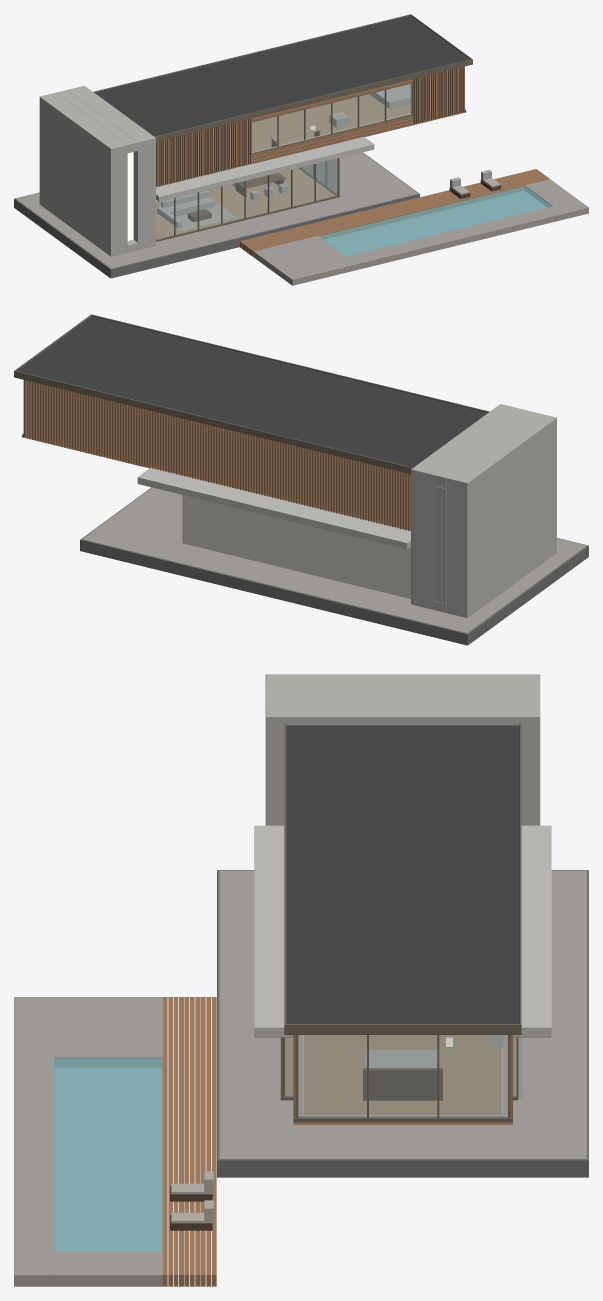
The model's file is house.glb.
3 renders of one model, top to bottom at view 1: azimuth 30°, elevation 25°; view 2: azimuth 150°, elevation 25°; view 3: azimuth 270°, elevation 25°, orthographic. The views are drawn at different scales.
Parts seen in each view (by area): view 1: roof, core, pool coping, plinth, cedar slats, ground glazing, ground interior, water, deck boards, upper shell, upper glazing, slab (+5 smaller); view 2: roof, core, cedar slats, plinth, ground back wall, slab; view 3: roof, plinth, pool coping, water, core, upper glazing, deck boards, slab, upper shell, upper room, upper frame, loungers (+1 smaller).
Boxes of the visible parts, x1=… form: roof: x1=93, y1=14, x2=472, y2=141; core: x1=39, y1=85, x2=155, y2=256; pool coping: x1=254, y1=179, x2=588, y2=285; plinth: x1=14, y1=152, x2=419, y2=278; cedar slats: x1=156, y1=66, x2=466, y2=187; ground glazing: x1=156, y1=158, x2=337, y2=239; ground interior: x1=156, y1=168, x2=335, y2=239; water: x1=319, y1=186, x2=551, y2=256; deck boards: x1=239, y1=169, x2=549, y2=257; upper shell: x1=158, y1=68, x2=458, y2=185; upper glazing: x1=252, y1=84, x2=411, y2=152; slab: x1=156, y1=137, x2=374, y2=201; roof: x1=14, y1=314, x2=489, y2=474; core: x1=411, y1=404, x2=556, y2=618; cedar slats: x1=21, y1=380, x2=410, y2=531; plinth: x1=80, y1=487, x2=588, y2=645; ground back wall: x1=182, y1=495, x2=410, y2=598; slab: x1=137, y1=467, x2=410, y2=549; roof: x1=284, y1=723, x2=521, y2=1034; plinth: x1=217, y1=870, x2=588, y2=1177; pool coping: x1=14, y1=997, x2=162, y2=1286; water: x1=54, y1=1058, x2=162, y2=1250; core: x1=265, y1=674, x2=540, y2=825; upper glazing: x1=300, y1=1035, x2=507, y2=1115; deck boards: x1=162, y1=997, x2=216, y2=1286; slab: x1=254, y1=825, x2=551, y2=1037; upper shell: x1=298, y1=1035, x2=507, y2=1117; upper room: x1=363, y1=1035, x2=503, y2=1100; upper frame: x1=293, y1=1035, x2=512, y2=1122; loungers: x1=170, y1=1171, x2=213, y2=1230.
Bounding box in the file's own units: 33 × 8.7 × 20.1.
